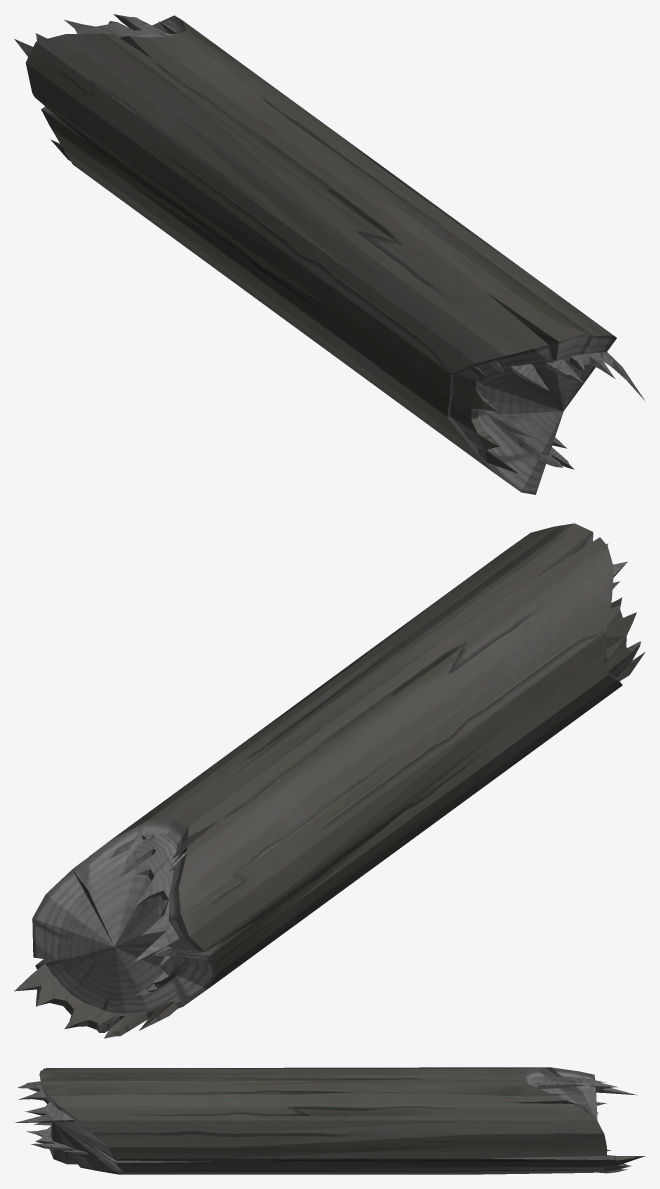
File: BrokenTree01.fbx
3 views of the same model, one above another, from view 1: azimuth 30°, elevation 25°; view 2: azimuth 150°, elevation 25°; view 3: azimuth 270°, elevation 25° (orthographic). The views are drawn at different scales.
Visible parts, largest first — view 1: SM_ENV_NATURE_ForestTree_Trunk_Broken_01.mo; view 2: SM_ENV_NATURE_ForestTree_Trunk_Broken_01.mo; view 3: SM_ENV_NATURE_ForestTree_Trunk_Broken_01.mo.
Boxes of the visible parts, x1,y1,x2,y2 form: SM_ENV_NATURE_ForestTree_Trunk_Broken_01.mo: [14, 14, 644, 494]; SM_ENV_NATURE_ForestTree_Trunk_Broken_01.mo: [14, 523, 645, 1038]; SM_ENV_NATURE_ForestTree_Trunk_Broken_01.mo: [15, 1067, 645, 1174].
Bounding box in the file's own units: 60.36 × 60.2 × 357.
Materials: 1 (1 with a texture image).
